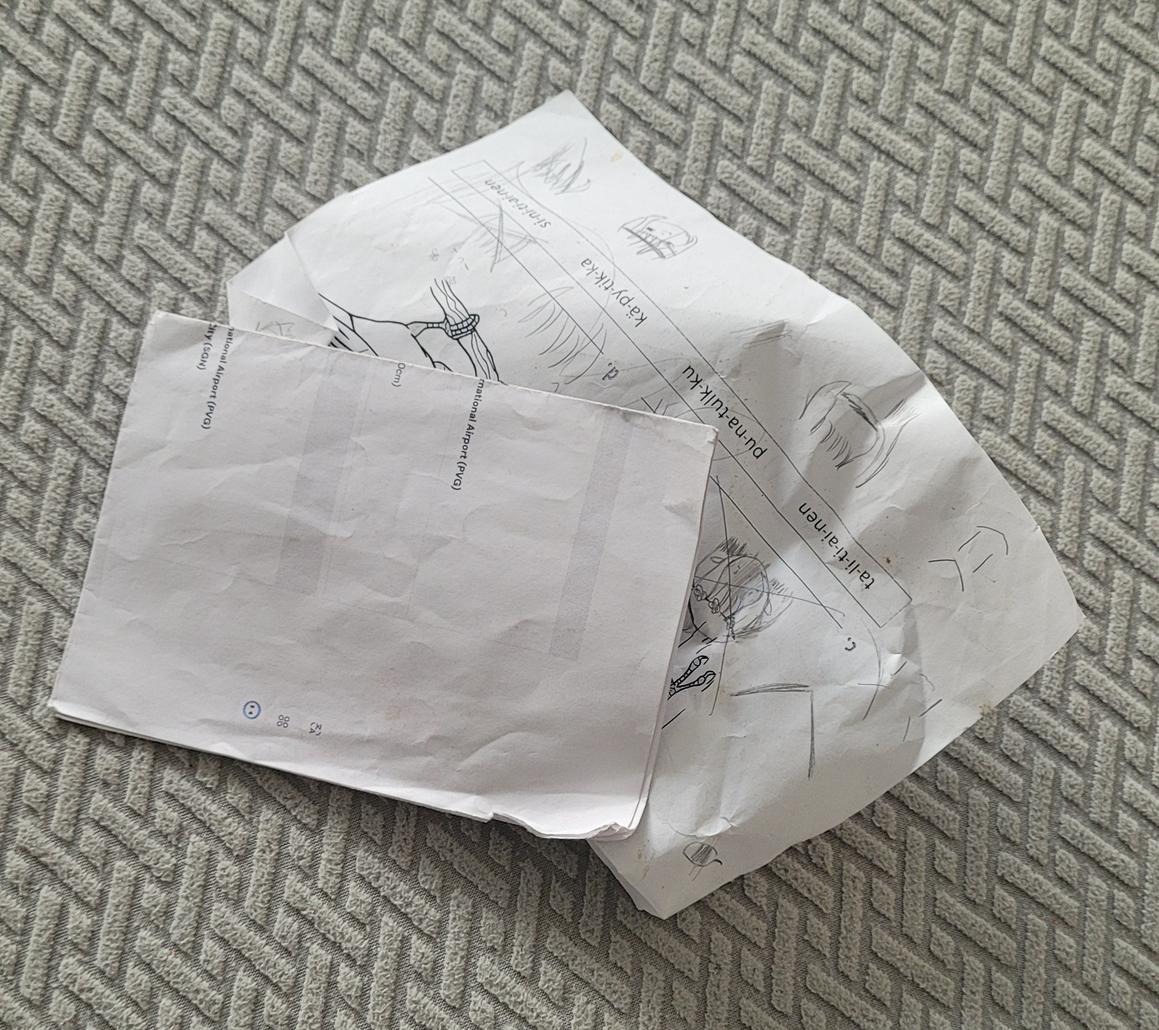paper: (44, 83, 1091, 922)
